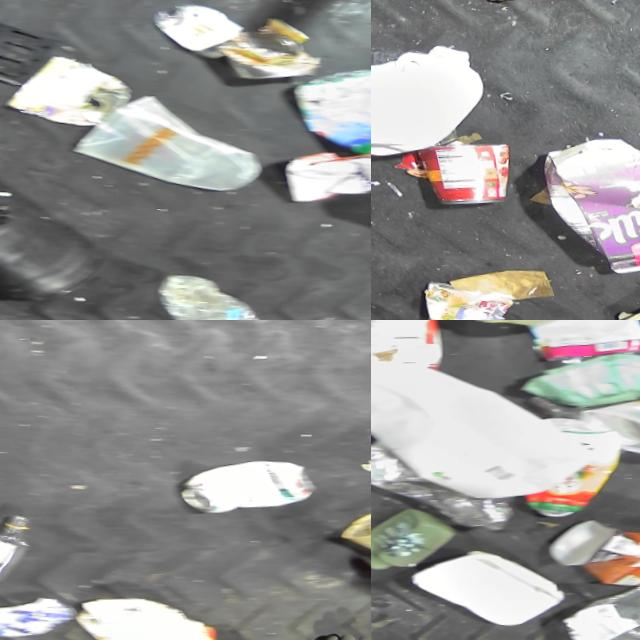can: (174, 451, 321, 514), (422, 132, 525, 205), (0, 588, 76, 640)
milk_jug: (371, 345, 594, 507), (371, 31, 491, 162)
plastic_bottle: (154, 266, 265, 320), (0, 508, 34, 583)
